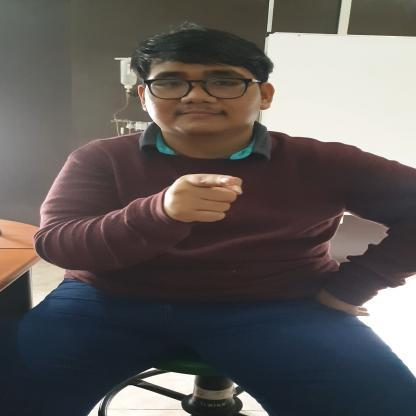Kamu: (160, 171, 250, 227)
